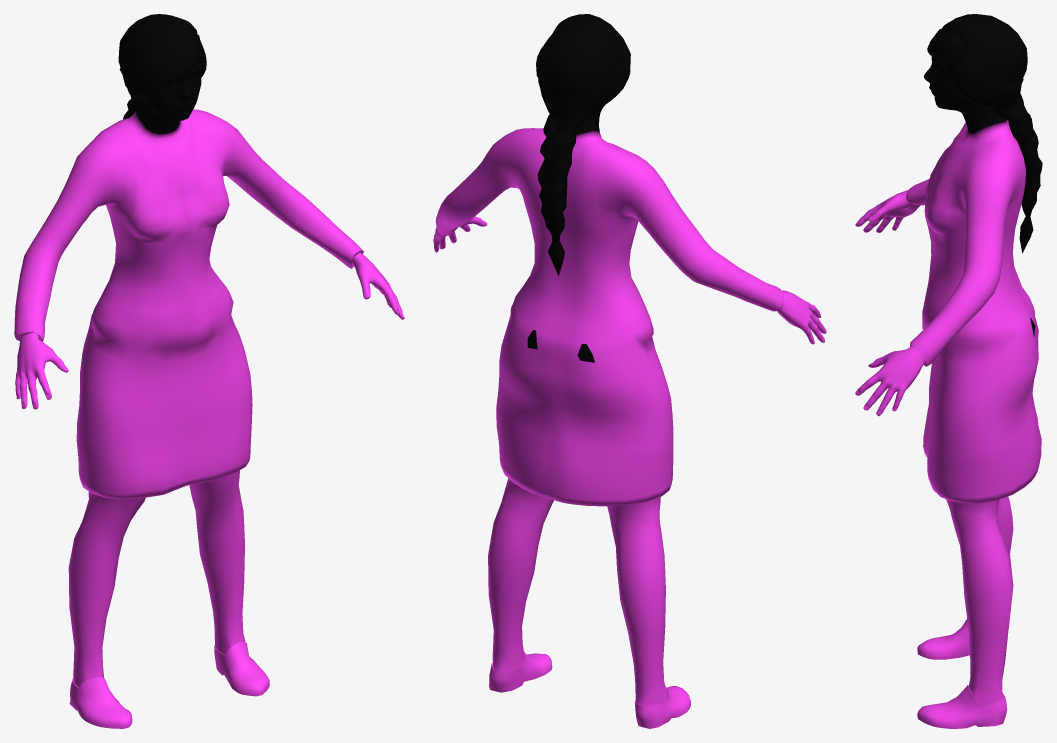
The model's file is Mamy Base.FBX.
3 renders of one model, left to right at view 1: azimuth 30°, elevation 25°; view 2: azimuth 150°, elevation 25°; view 3: azimuth 270°, elevation 25°, orthographic.
Parts seen in each view (by area): view 1: Mamy; view 2: Mamy; view 3: Mamy.
Boxes of the visible parts, bbox=[...] form: Mamy: bbox=[14, 14, 404, 728]; Mamy: bbox=[433, 14, 826, 728]; Mamy: bbox=[855, 14, 1042, 728].
Bounding box in the file's own units: 1010 × 1708 × 434.
